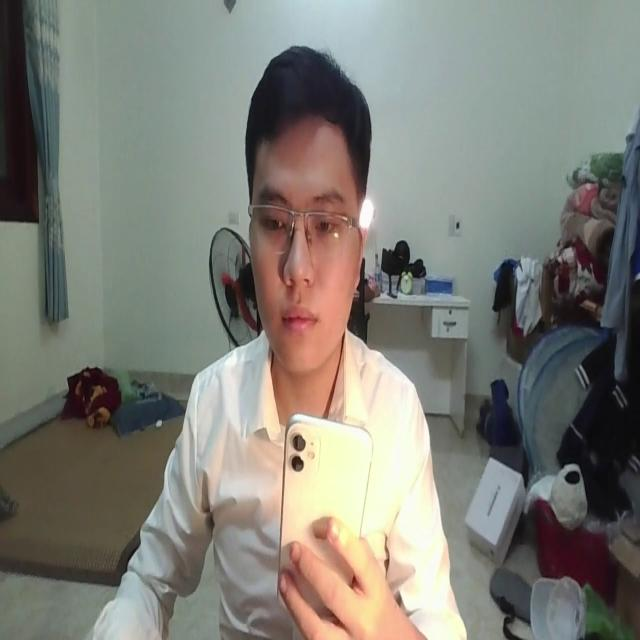phone: (274, 407, 378, 603)
student: (97, 44, 469, 640)
